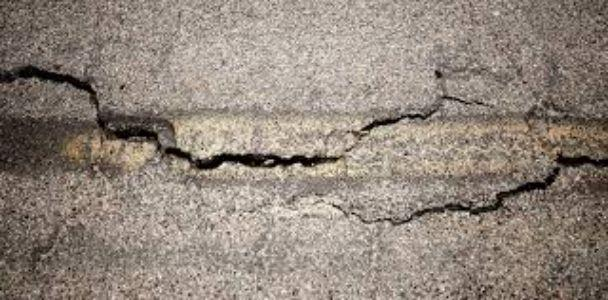crack: (0, 61, 524, 166), (201, 154, 608, 249)
